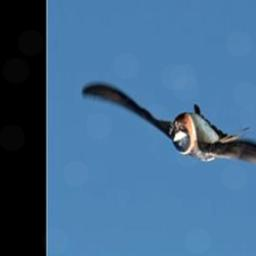Swallow: (79, 85, 256, 181)
